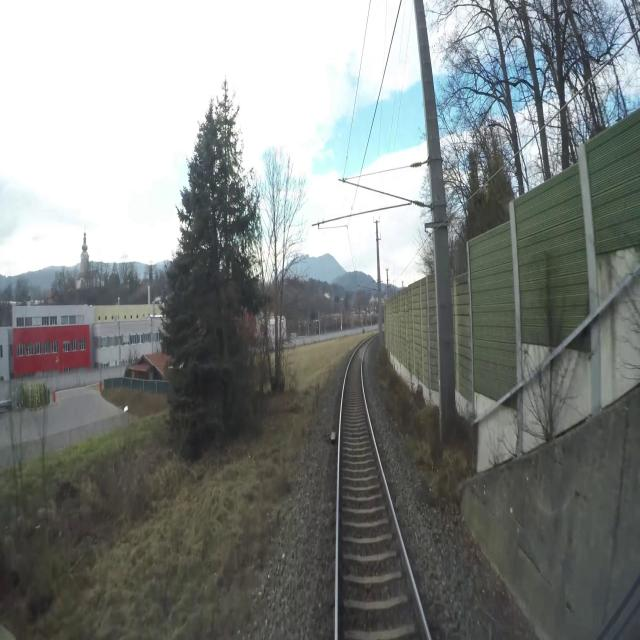rail-track: (339, 344, 427, 639)
